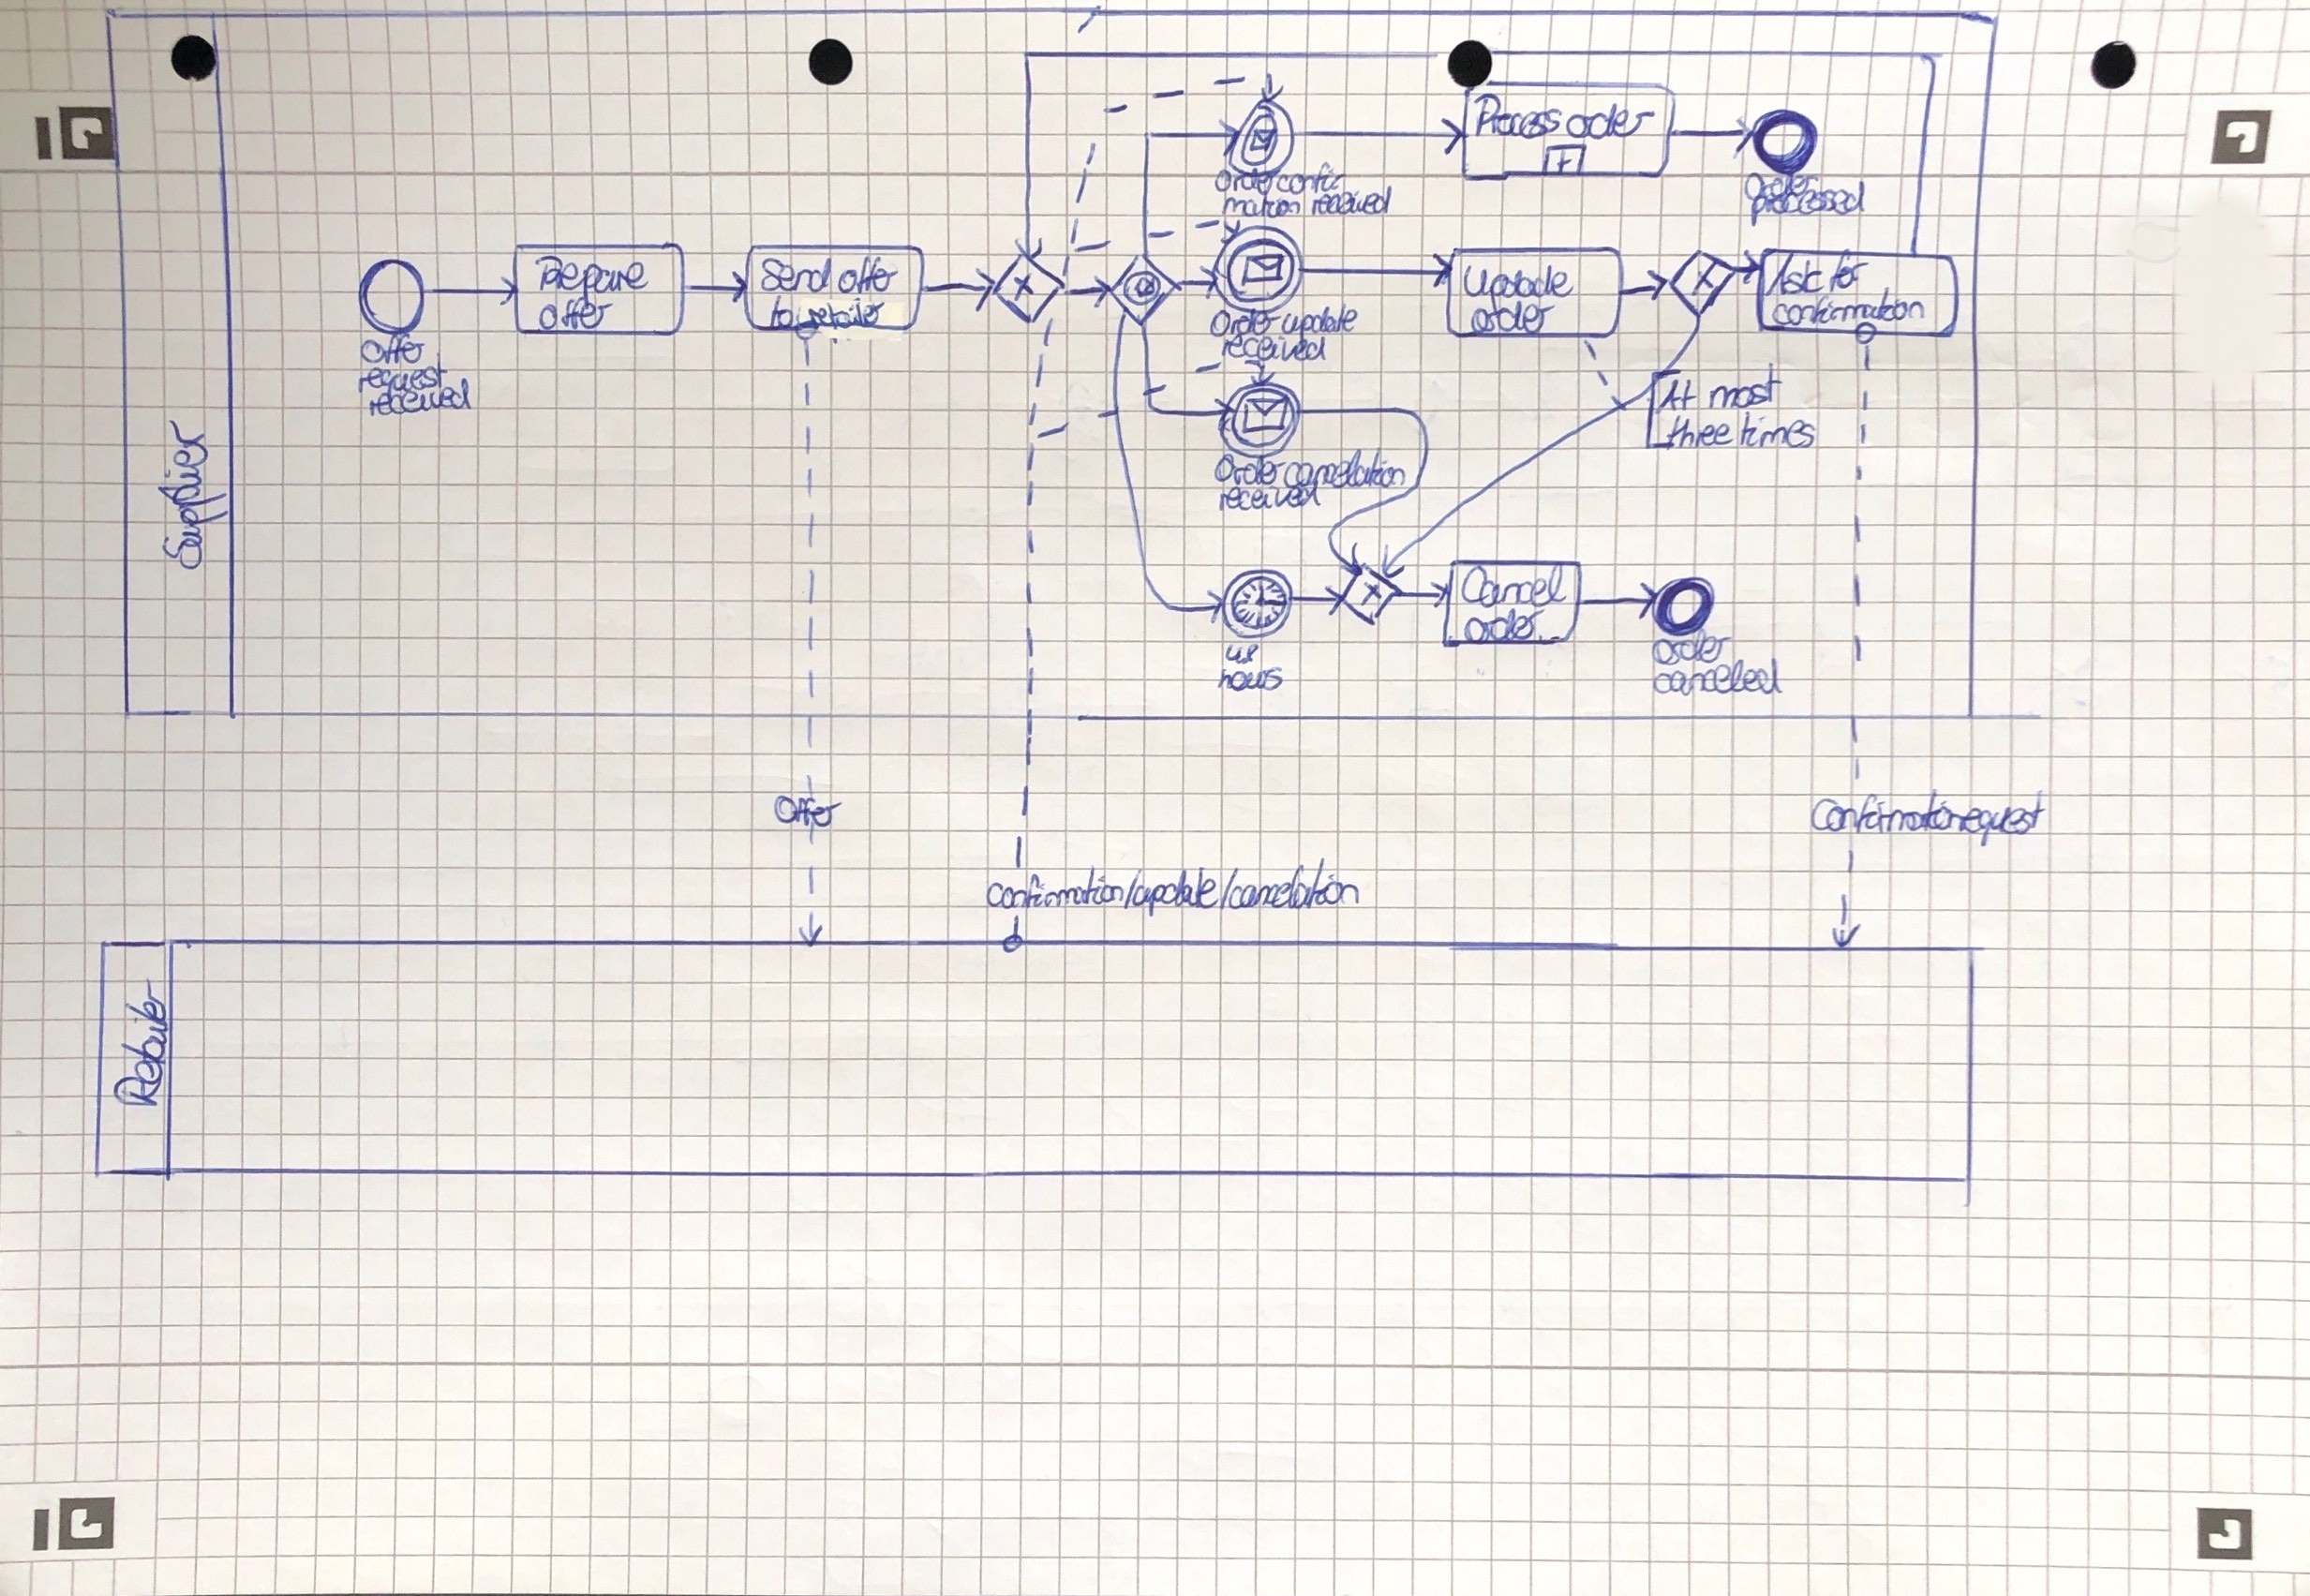48: (1218, 636, 1260, 662)
Ask: (1768, 244, 1824, 295)
At: (1650, 370, 1699, 409)
Cancel: (1462, 557, 1567, 599)
Confirmationrequest: (1808, 790, 2050, 838)
Offer: (744, 790, 864, 836), (353, 334, 432, 367)
Order: (1741, 165, 1819, 191), (1215, 163, 1271, 193)
Prepare: (528, 251, 648, 295)
Process: (1462, 95, 1559, 140)
Retailer: (107, 978, 163, 1108)
Send: (764, 249, 823, 293)
Supplier: (154, 414, 216, 564)
Update: (1462, 256, 1573, 300)
canceled: (1641, 658, 1785, 702)
cancellation: (1283, 451, 1408, 490)
confir-: (1276, 156, 1350, 191)
confirmation: (1780, 295, 1915, 327)
confirmation/update/cancellation: (979, 867, 1362, 913)
for: (1827, 249, 1873, 288)
hours: (1211, 657, 1283, 699)
mation: (1222, 197, 1301, 212)
most: (1708, 363, 1776, 409)
oder: (1560, 95, 1655, 139), (1201, 304, 1278, 337)
offer: (814, 255, 913, 298), (535, 297, 604, 328)
order: (1445, 298, 1571, 339), (1445, 606, 1559, 648), (1215, 453, 1295, 497), (1648, 629, 1731, 662)
processed: (1747, 184, 1871, 223)
received: (1211, 467, 1318, 521), (1215, 330, 1327, 363), (369, 383, 467, 420), (1308, 186, 1394, 219)
request: (351, 367, 449, 388)
retailer: (809, 298, 881, 335)
three: (1659, 407, 1734, 451)
times: (1731, 407, 1813, 448)
to: (765, 300, 793, 328)
update: (1280, 300, 1353, 335)
